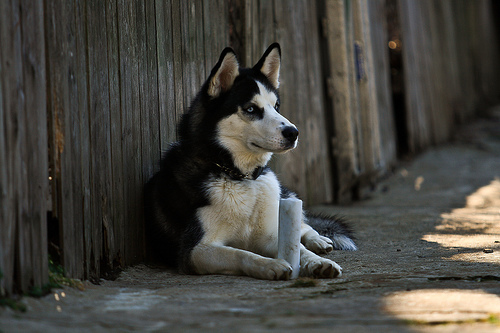dog: (139, 41, 358, 285)
